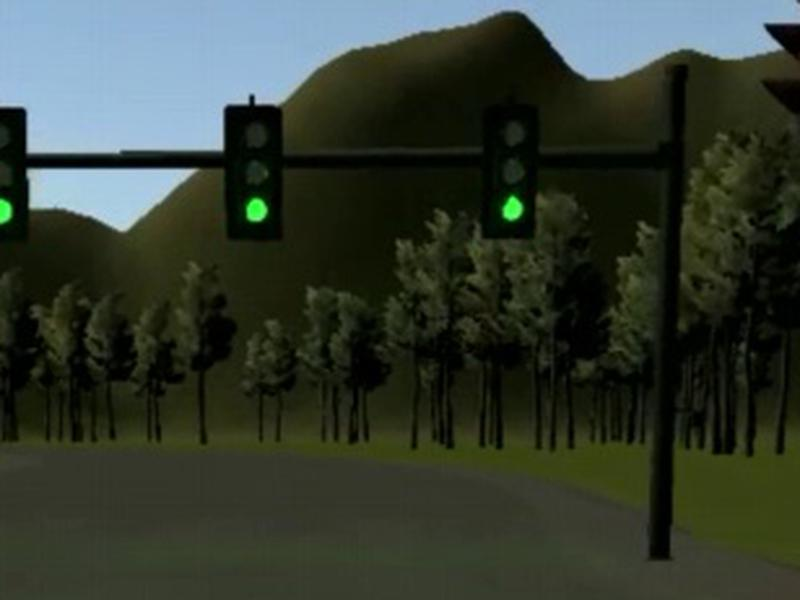Green: (224, 104, 284, 242), (481, 105, 540, 240), (1, 106, 29, 244)
